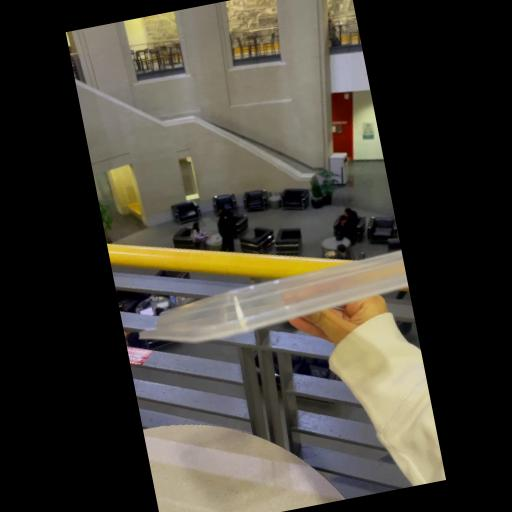rigid_plastic_lid: (141, 240, 412, 378)
